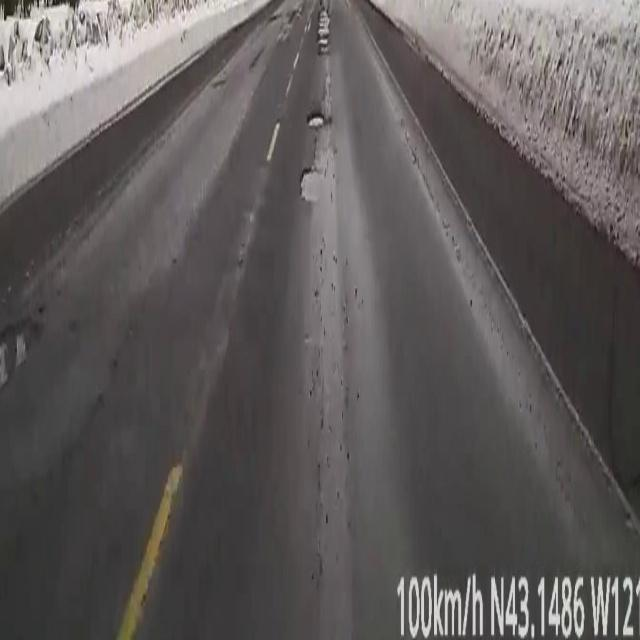pothole: (300, 164, 324, 202), (318, 0, 328, 51), (308, 111, 328, 130)
